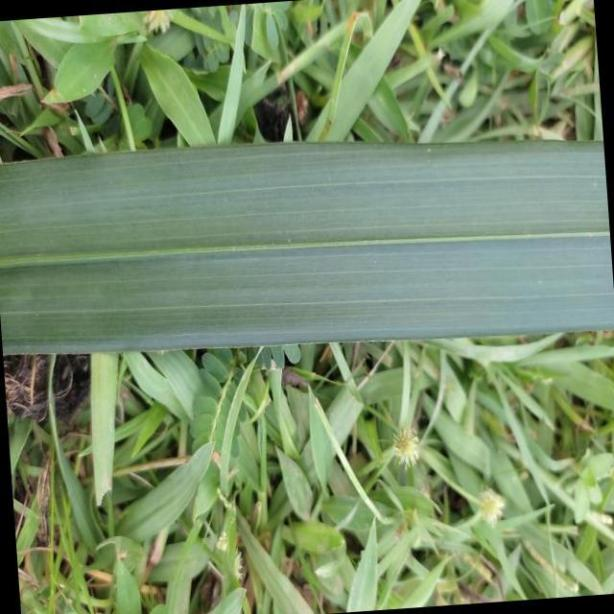Healthy: (0, 136, 614, 360)
